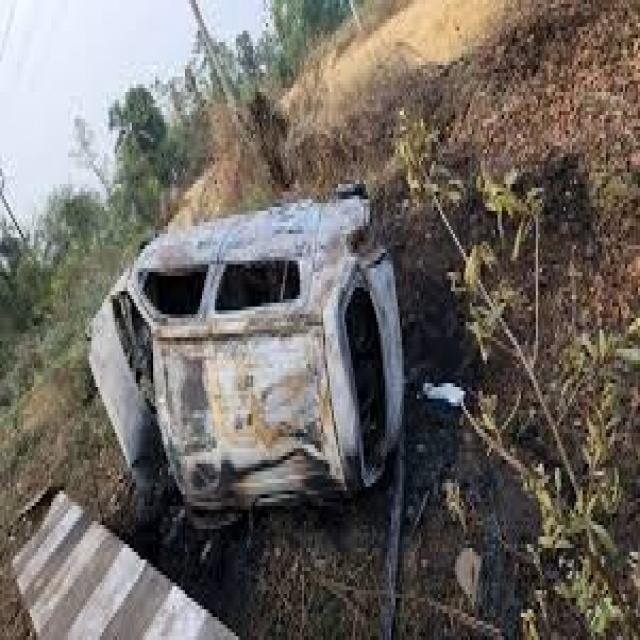accident: (65, 226, 463, 536)
